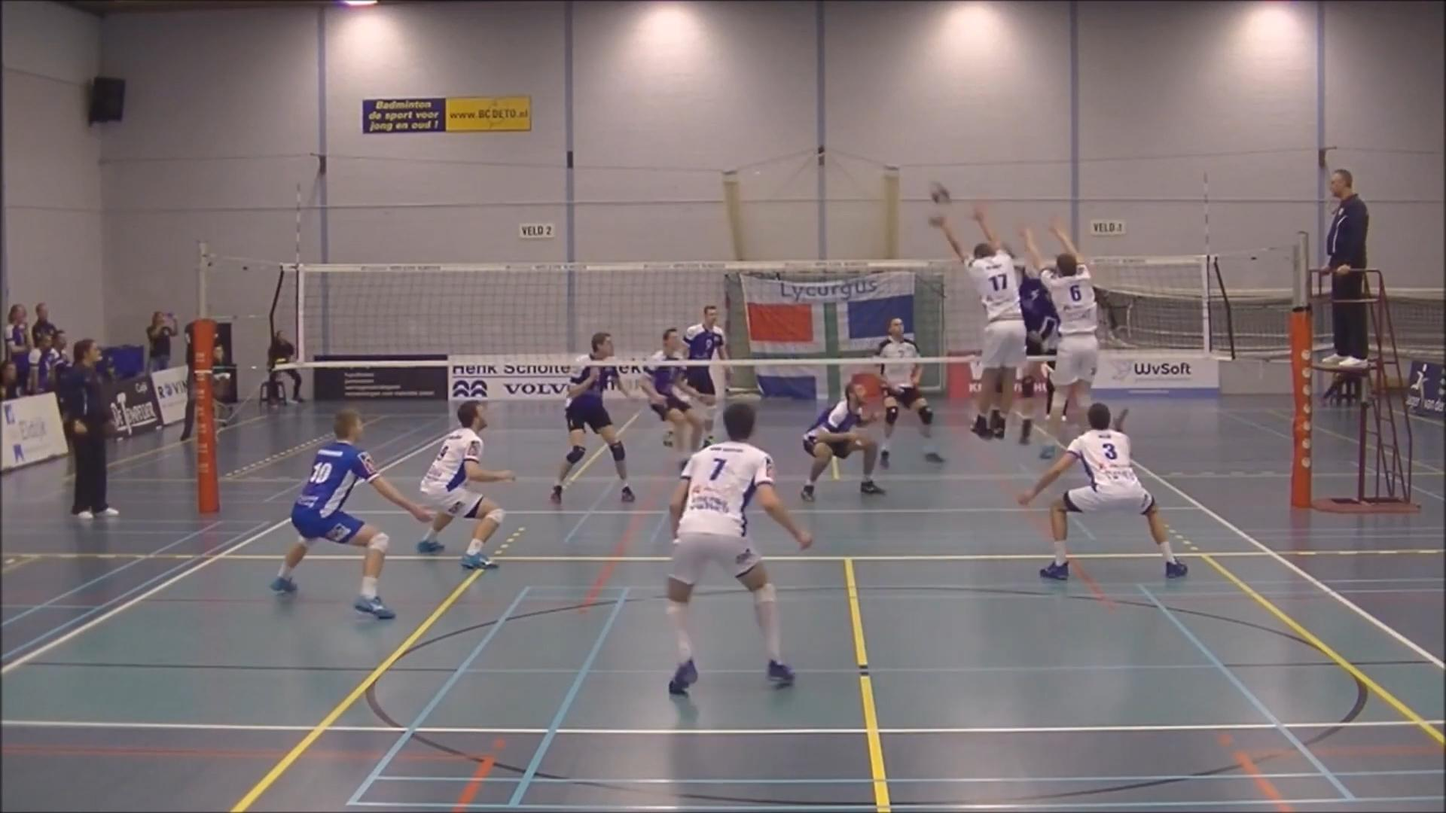attacco: (990, 230, 1068, 447)
muro: (919, 202, 1028, 455), (1004, 205, 1111, 448)
